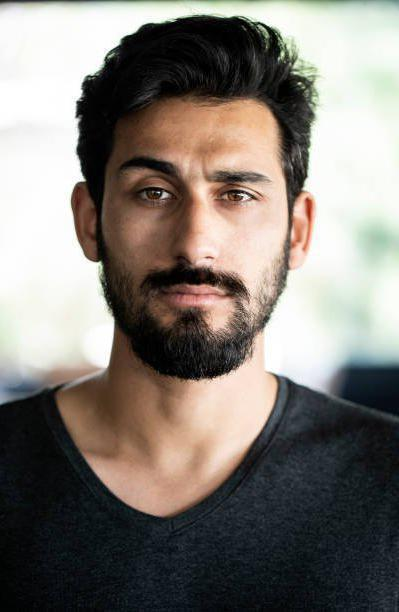Sober: (114, 115, 282, 339)
